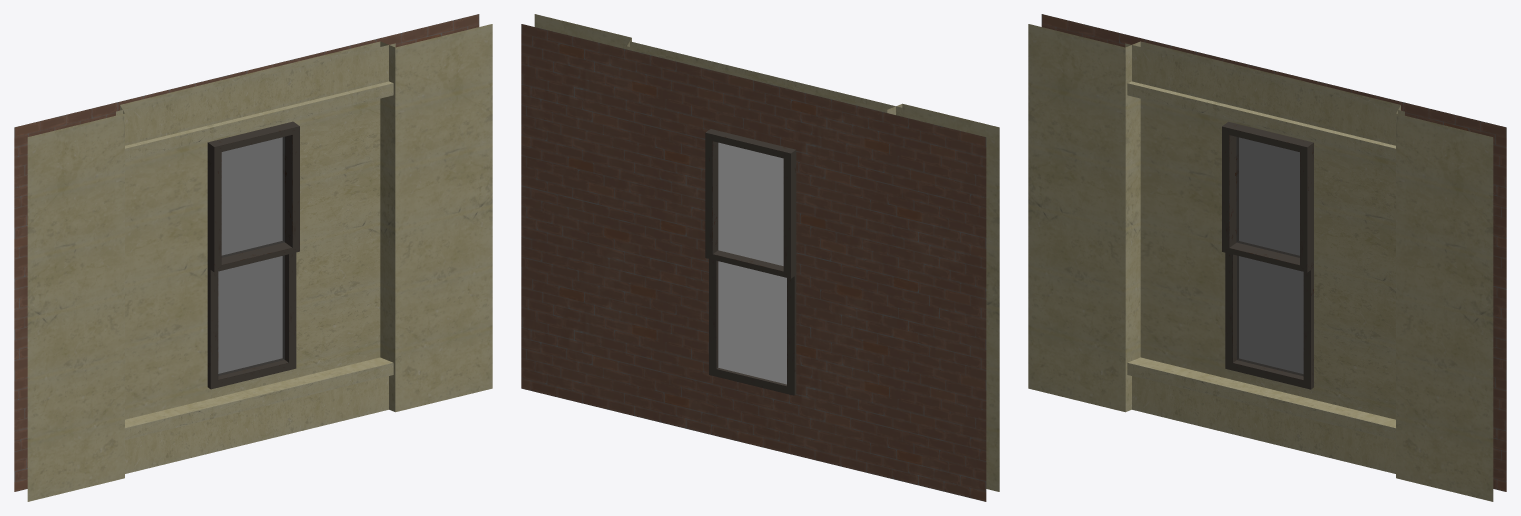
The model's file is Marble_Window_Single.gltf.
The picture shows the model from 3 angles, left to right: view 1: azimuth 30°, elevation 25°; view 2: azimuth 150°, elevation 25°; view 3: azimuth 330°, elevation 25°; orthographic projection.
Parts seen in each view (by area): view 1: Marble_Window_Single; view 2: Marble_Window_Single; view 3: Marble_Window_Single.
Boxes of the visible parts, x1,y1,x2,y2 form: Marble_Window_Single: [14, 14, 492, 501]; Marble_Window_Single: [521, 14, 999, 501]; Marble_Window_Single: [1028, 14, 1506, 501].
Size of the model in its own units: 4 by 3 by 0.2779.
5 materials, 3 textured.
